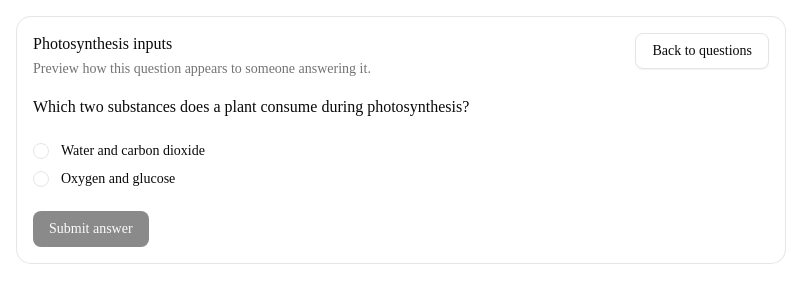
it: /mcqs/[id]/preview page › submit is disabled until a choice is selected
Expected: the text "Photosynthesis inputs" is shown, [33,35,172,52]
Expected: the button "Submit answer" is disabled, [33,211,149,247]
Click the radio button named "water and carbon dioxide" at (41, 151), box [33,143,49,159]
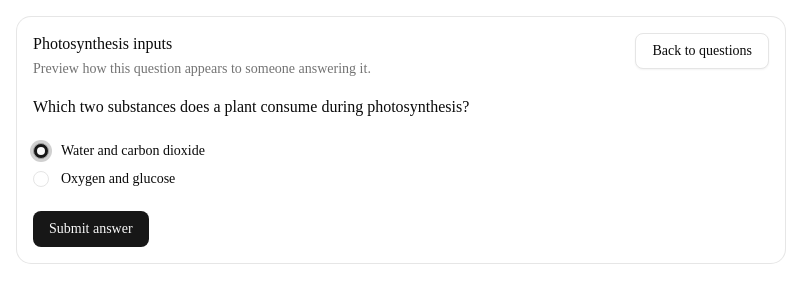
Now the button "Submit answer" is enabled, box [33,211,149,247]
